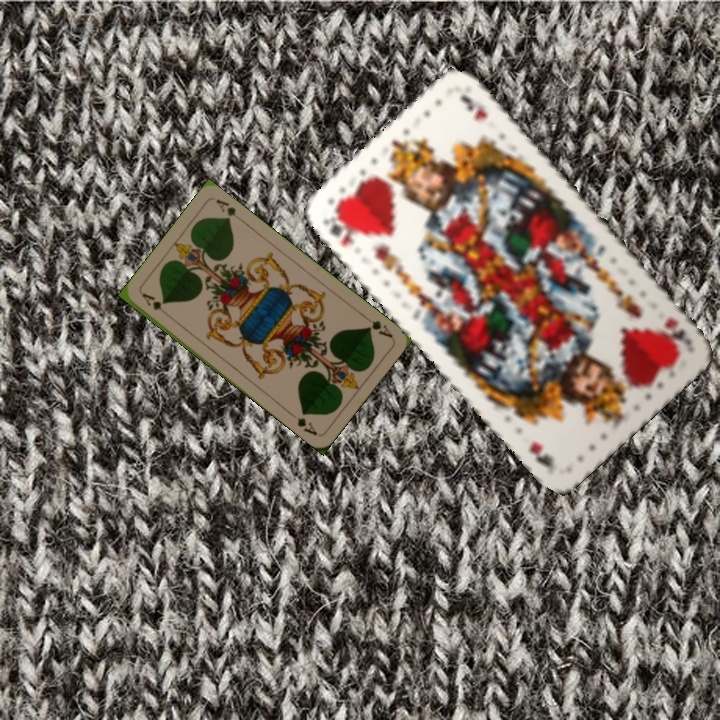GA: (359, 311, 395, 341), (138, 289, 172, 319)
HK: (318, 206, 359, 250), (660, 313, 695, 348)
